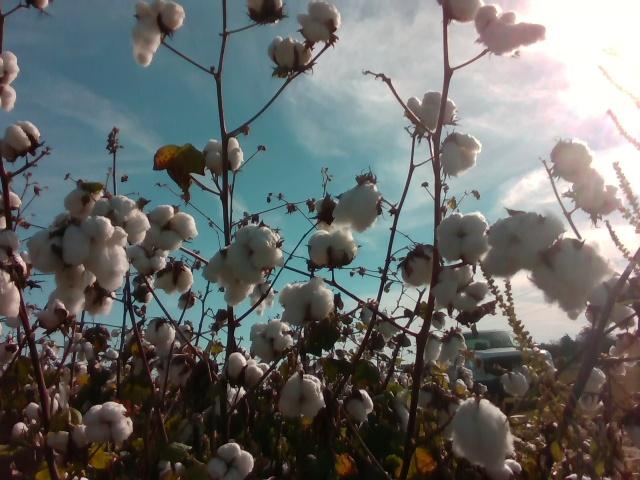cotton_ready: (531, 240, 611, 320), (483, 212, 562, 278), (61, 217, 129, 292), (451, 398, 515, 471), (472, 5, 548, 56), (132, 0, 186, 68), (228, 225, 284, 282), (89, 195, 150, 245), (201, 248, 254, 304), (586, 279, 639, 332), (433, 266, 490, 314), (280, 281, 334, 329), (435, 215, 489, 263), (139, 208, 199, 250), (279, 371, 326, 421), (331, 187, 382, 231), (403, 92, 456, 132), (27, 219, 65, 274), (83, 402, 132, 444), (205, 442, 255, 480), (577, 172, 620, 216), (0, 250, 27, 320), (307, 229, 357, 266), (295, 0, 339, 40), (442, 132, 482, 176), (250, 319, 292, 360), (0, 121, 40, 161), (552, 139, 592, 179), (227, 350, 271, 386), (47, 291, 115, 314), (267, 37, 311, 70), (203, 138, 244, 173), (128, 245, 169, 276), (404, 248, 437, 284), (0, 51, 20, 110), (66, 185, 105, 215), (153, 266, 194, 293), (246, 0, 284, 25), (0, 190, 22, 231), (445, 0, 486, 21)
